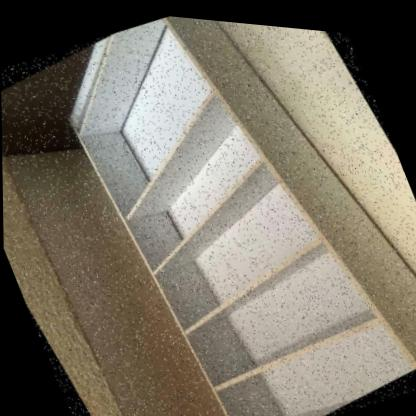Shelf: (14, 1, 416, 416)
